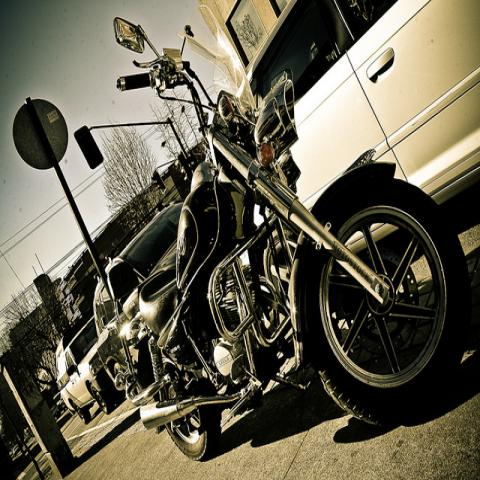car: (93, 203, 185, 393)
motorcycle: (108, 18, 472, 460)
truck: (242, 1, 480, 212), (50, 304, 114, 425)
